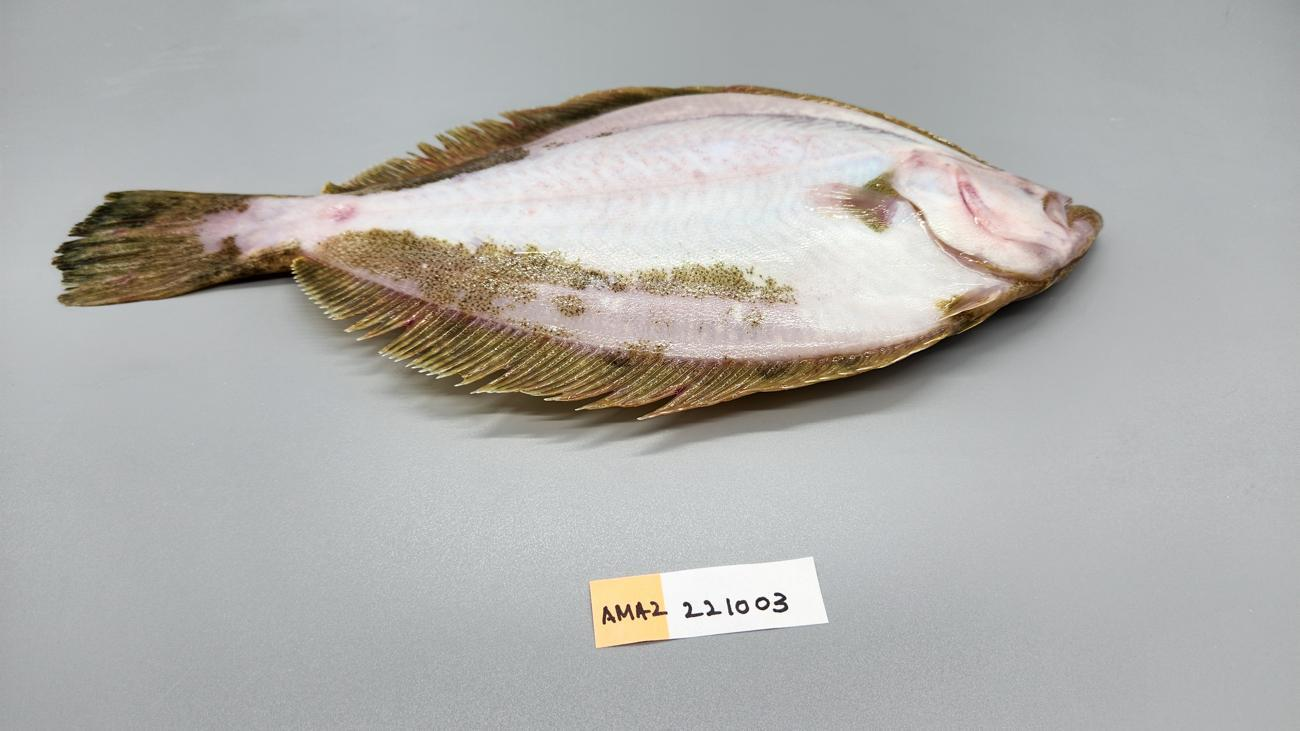MAFCH: (63, 192, 213, 307)
MAOUY: (52, 80, 1103, 420)
